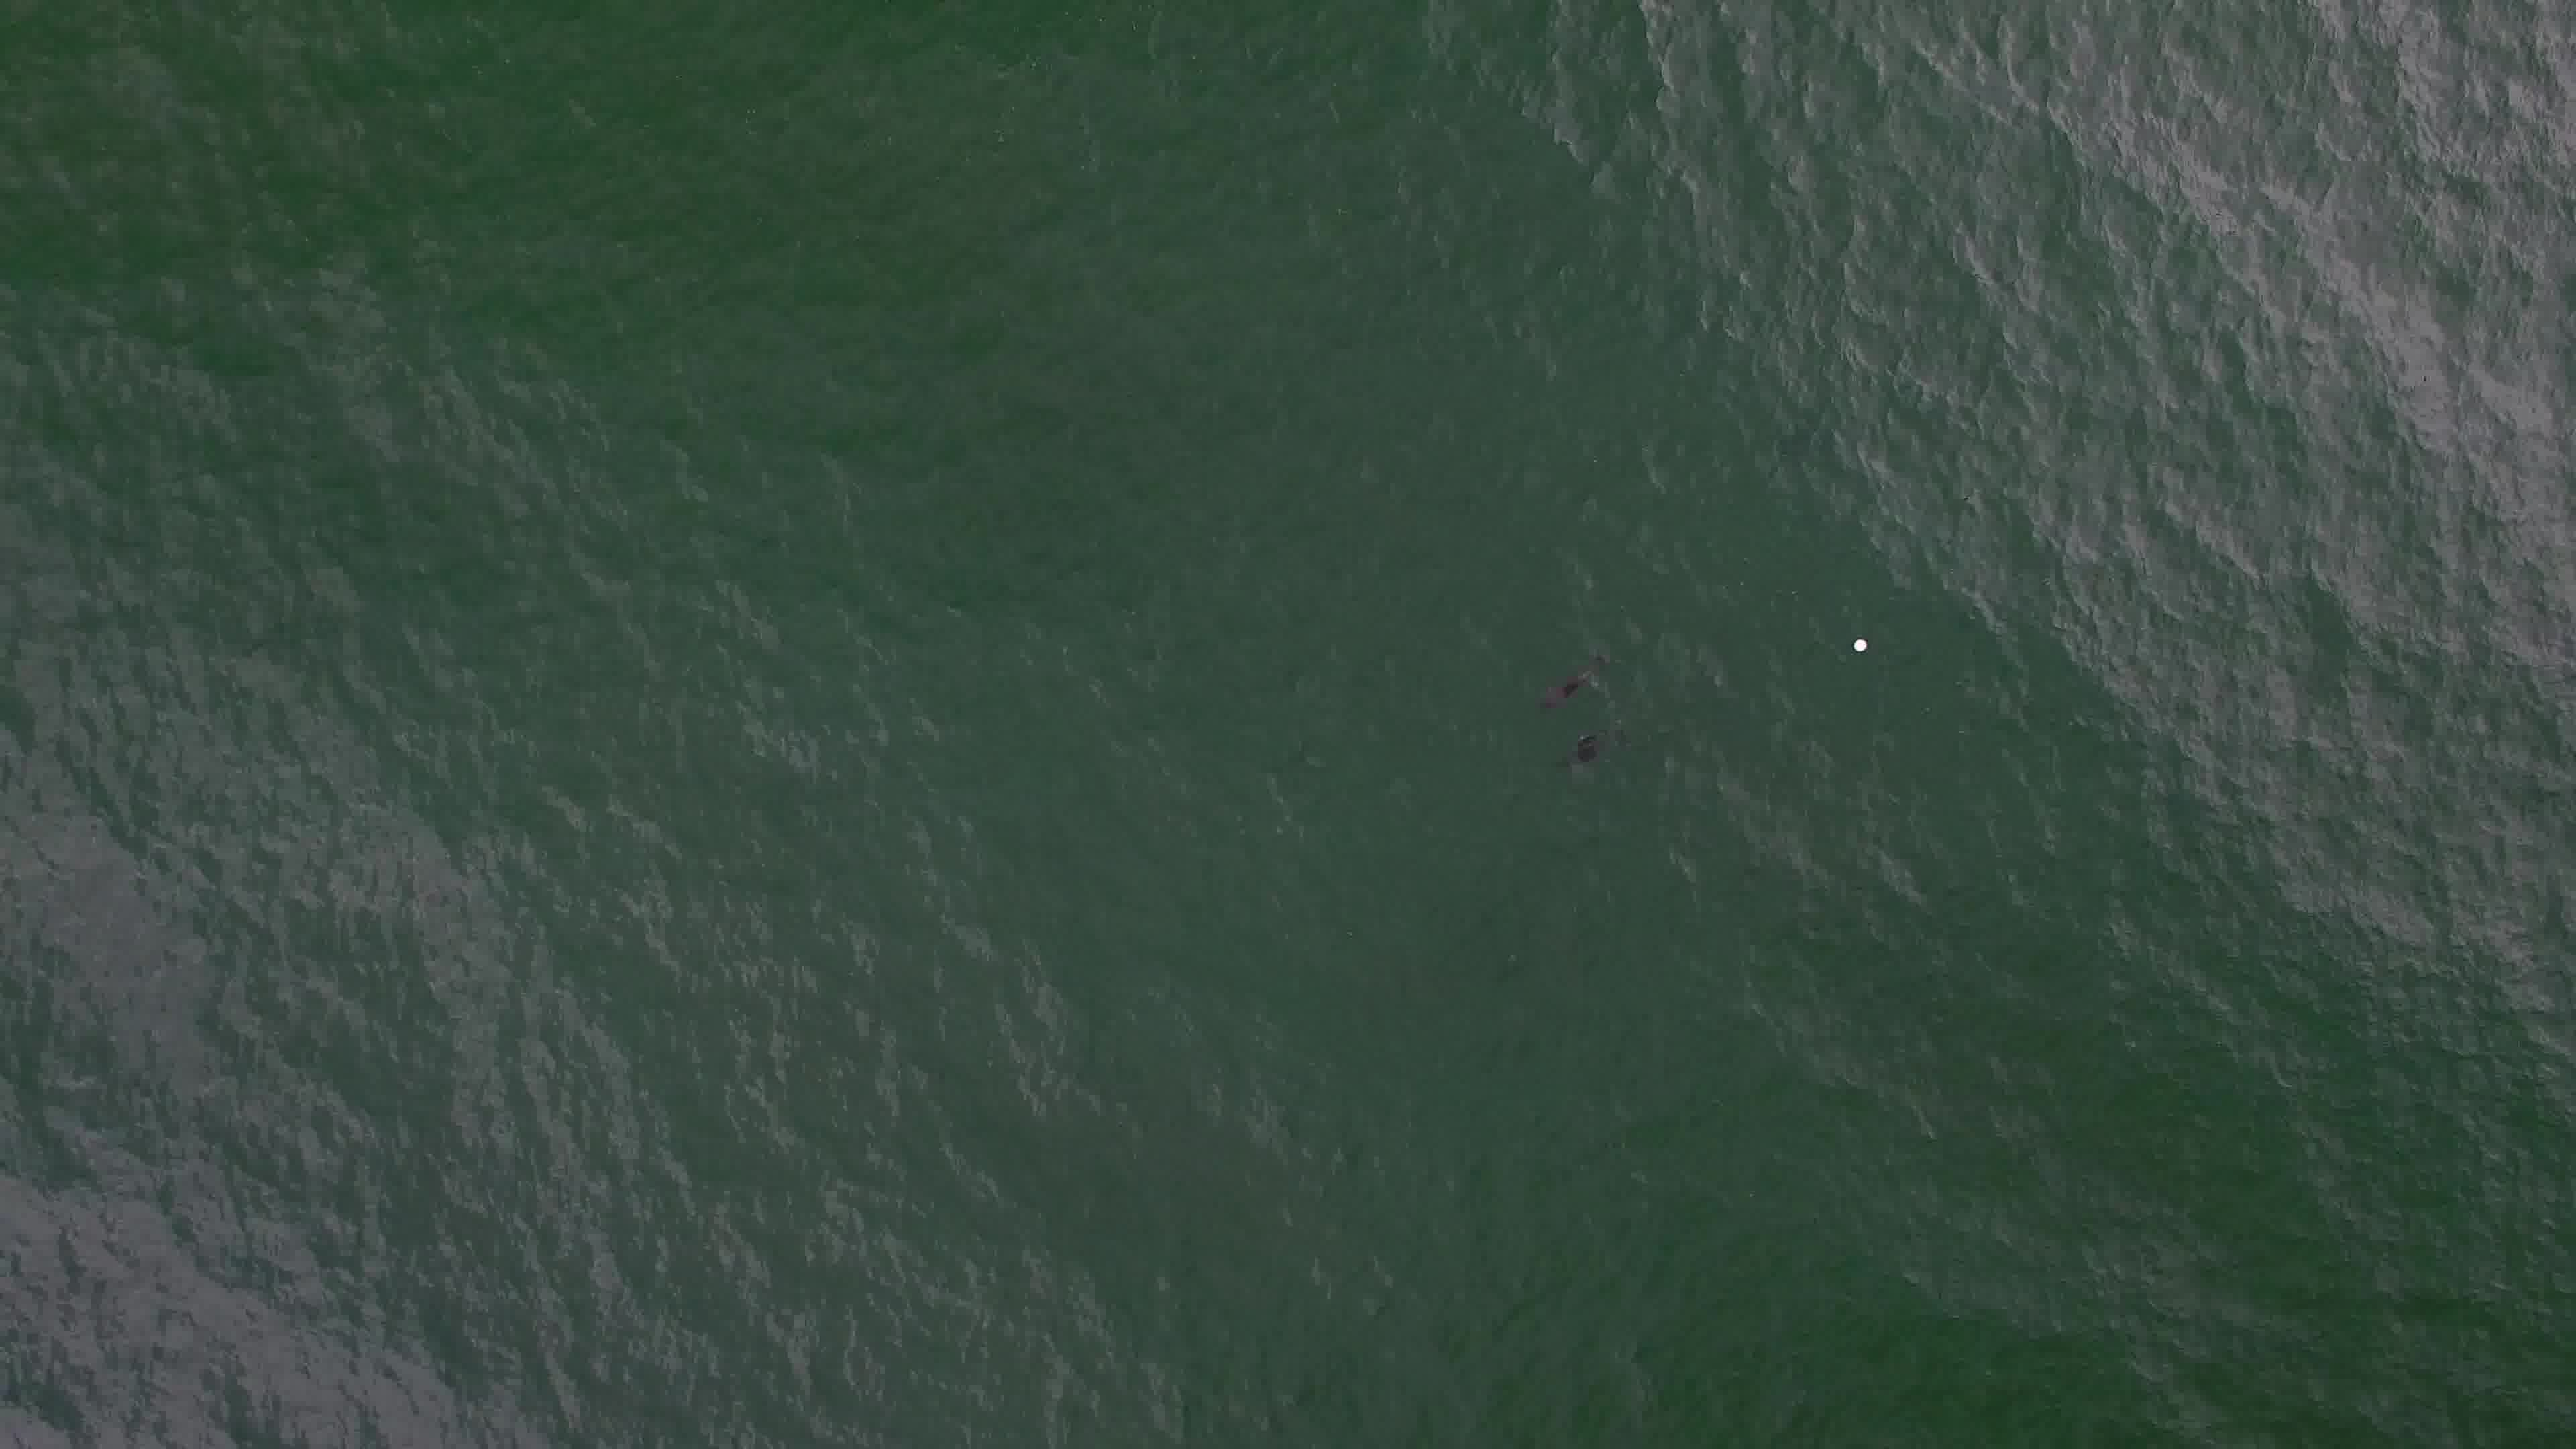dolphin: (1507, 630, 1612, 713), (1529, 729, 1624, 787)
